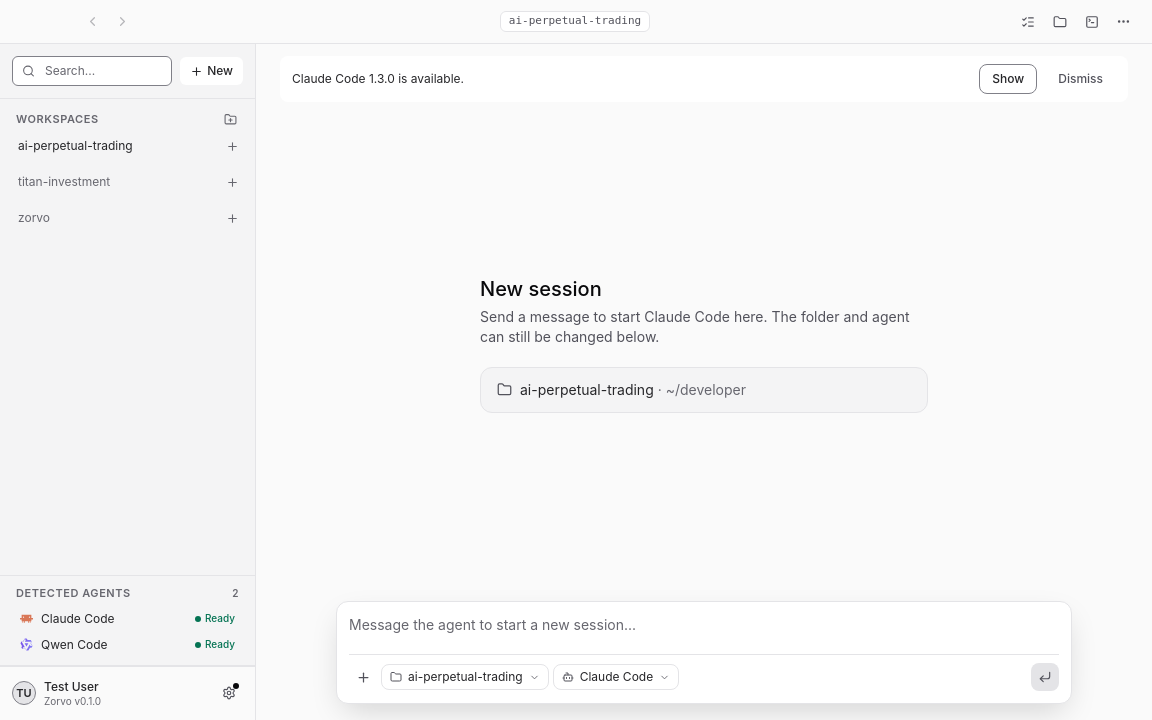
Test: Starting a new session › offers Worktree only for a folder that is a git repository
What coordinates should you click on to do the following:
click the button with aria-label "Folder: ai-perpetual-trading"
I would click on:
 (465, 677)
Its box is [381, 664, 549, 690].
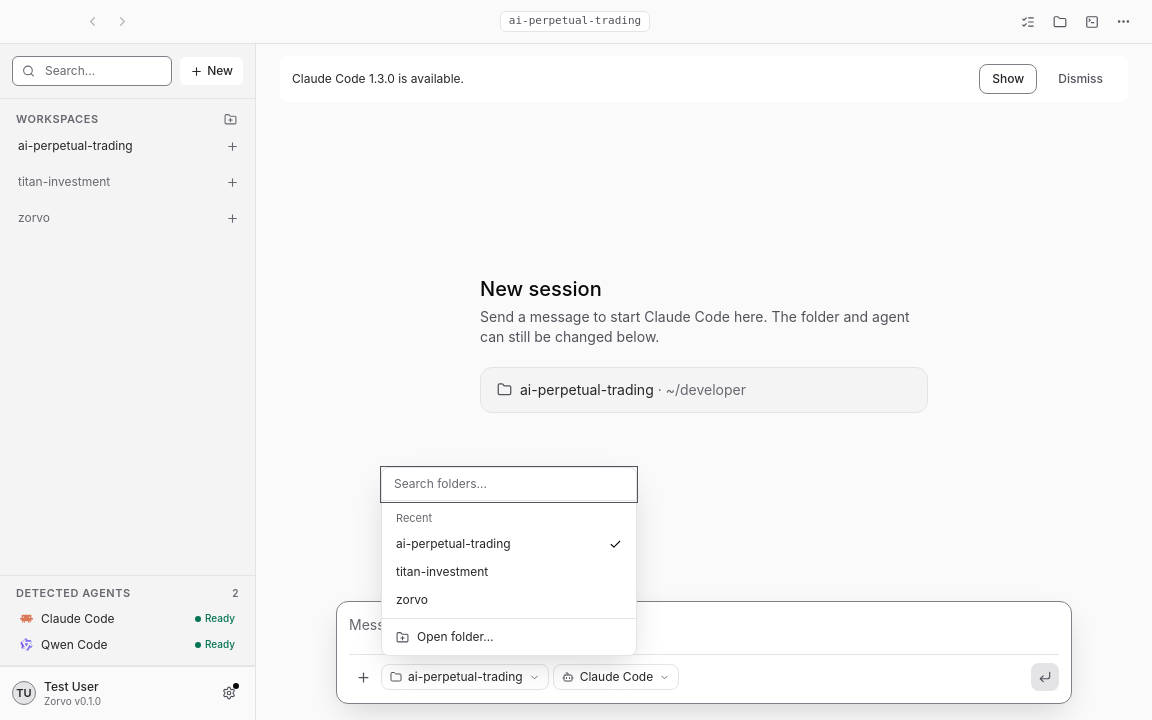
Expected: the dialog named "Choose a folder" is shown, [381, 467, 637, 656]
